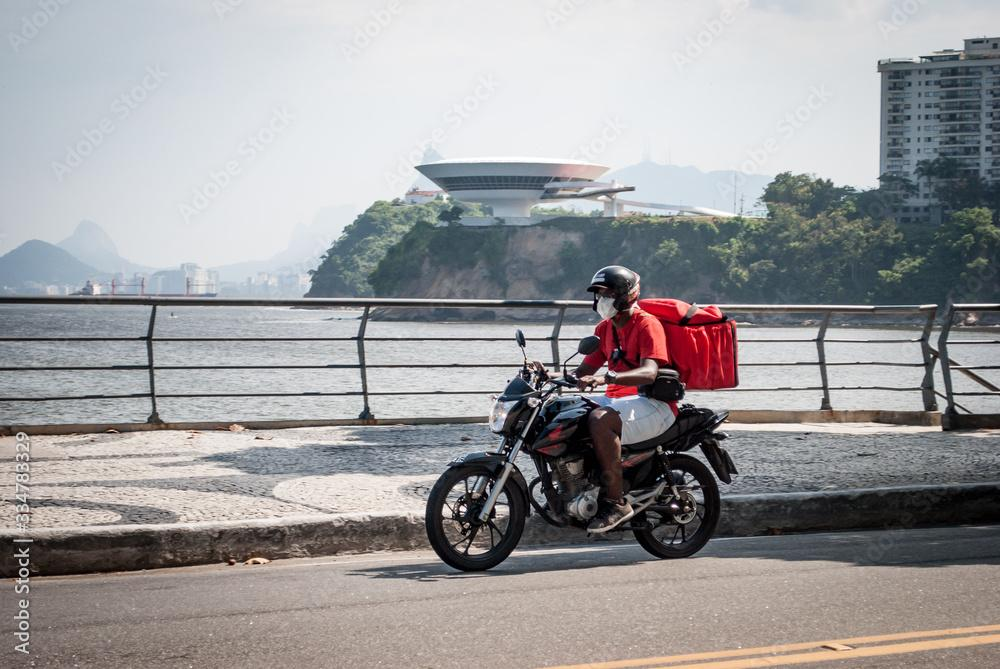helmet: (586, 264, 641, 321)
